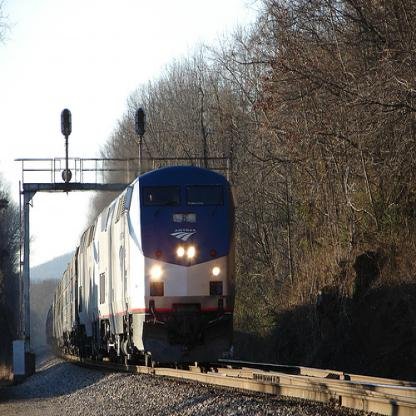train: (44, 158, 242, 369)
